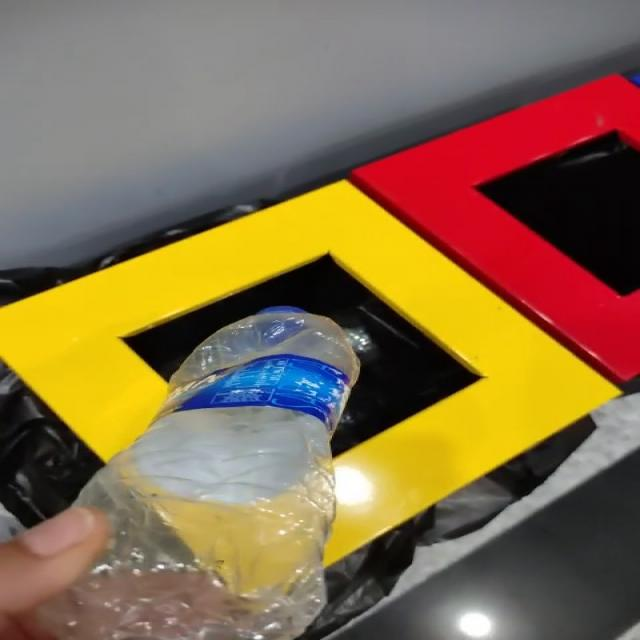plastic: (39, 307, 360, 640)
